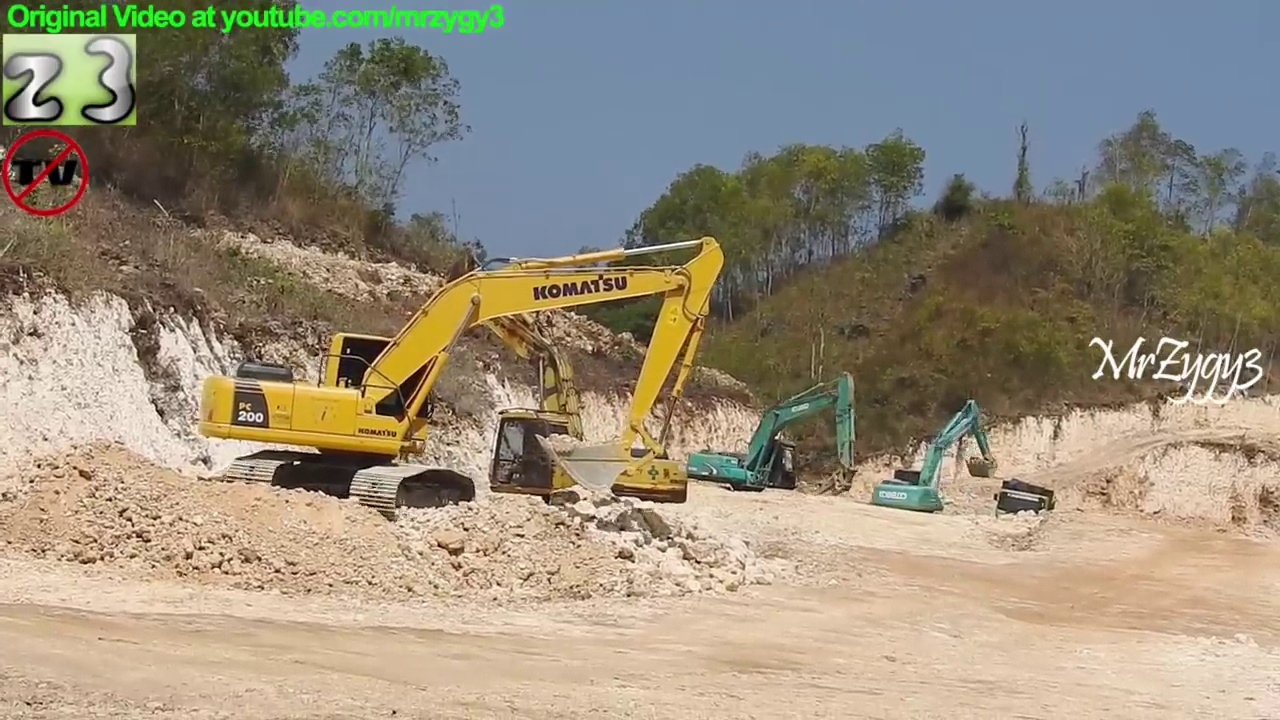excavator: (195, 230, 730, 530), (350, 245, 692, 523), (682, 364, 862, 513), (869, 395, 1000, 527)
truck: (991, 475, 1061, 543)
